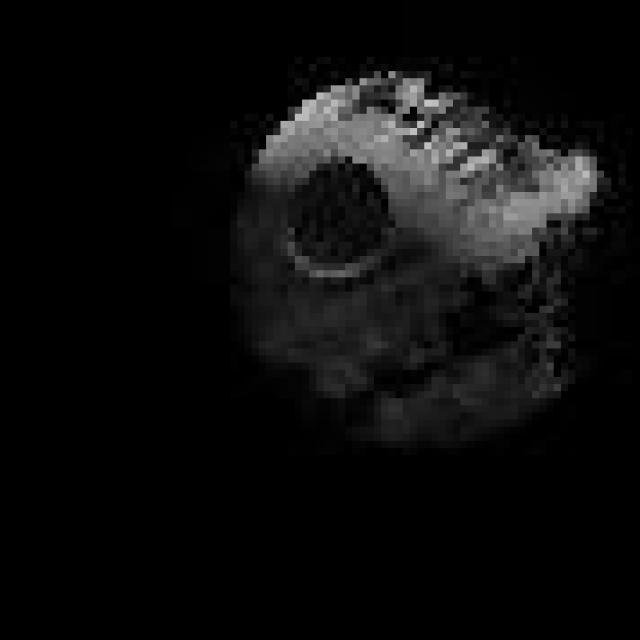Death Star: (216, 50, 611, 448)
